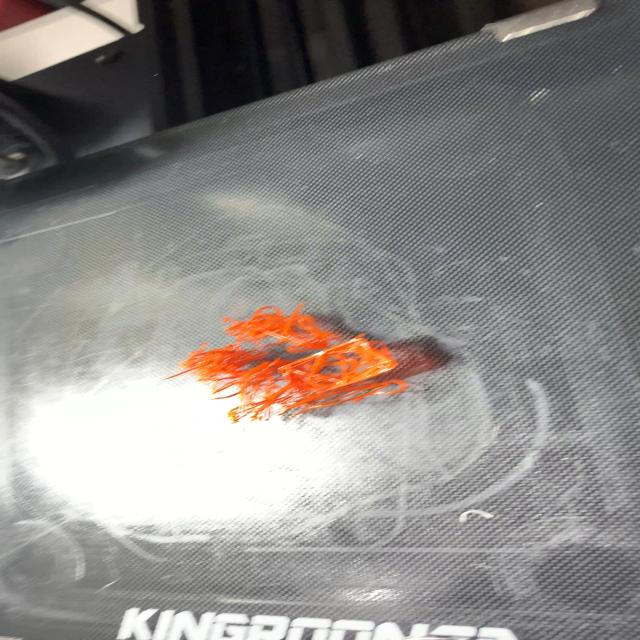spaghetti: (163, 300, 410, 425)
